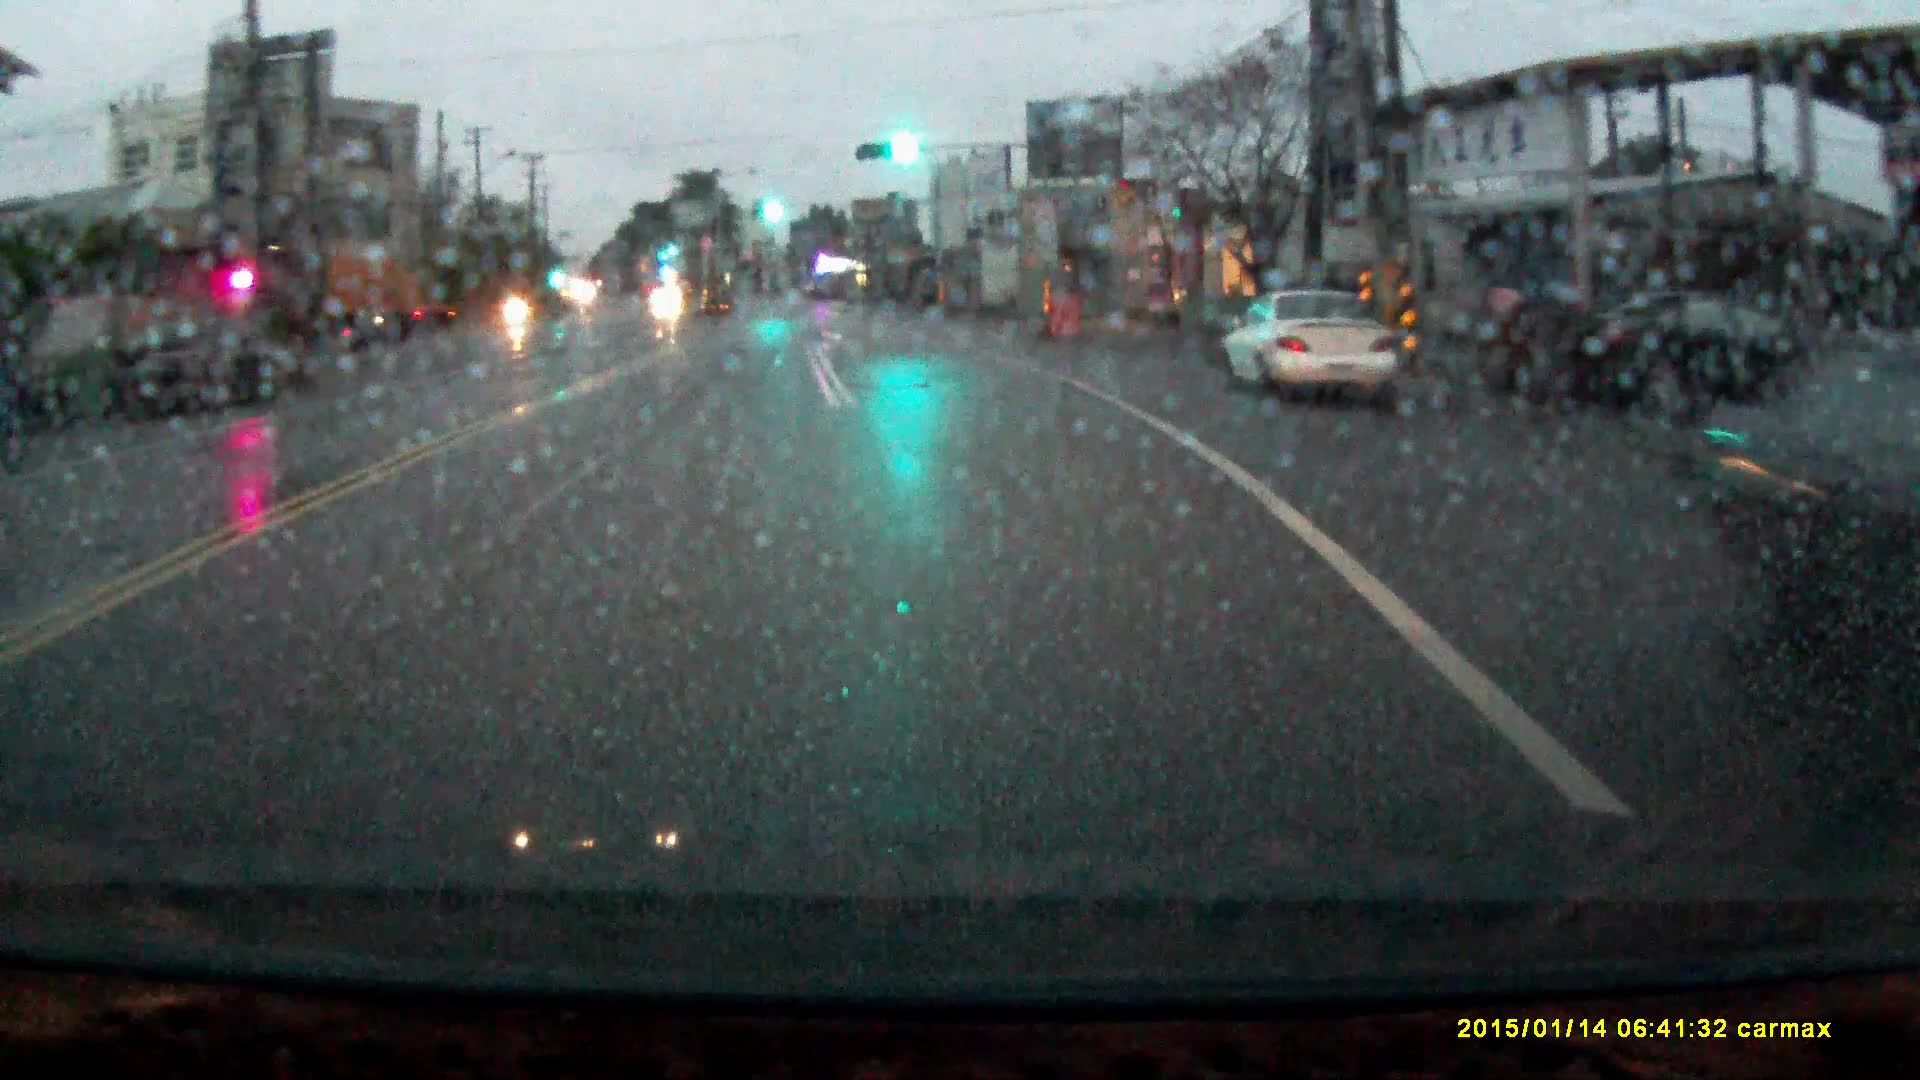rider: (500, 276, 533, 333)
vehicle: (1219, 289, 1396, 403), (282, 236, 455, 338), (99, 322, 274, 420), (653, 287, 682, 312)
